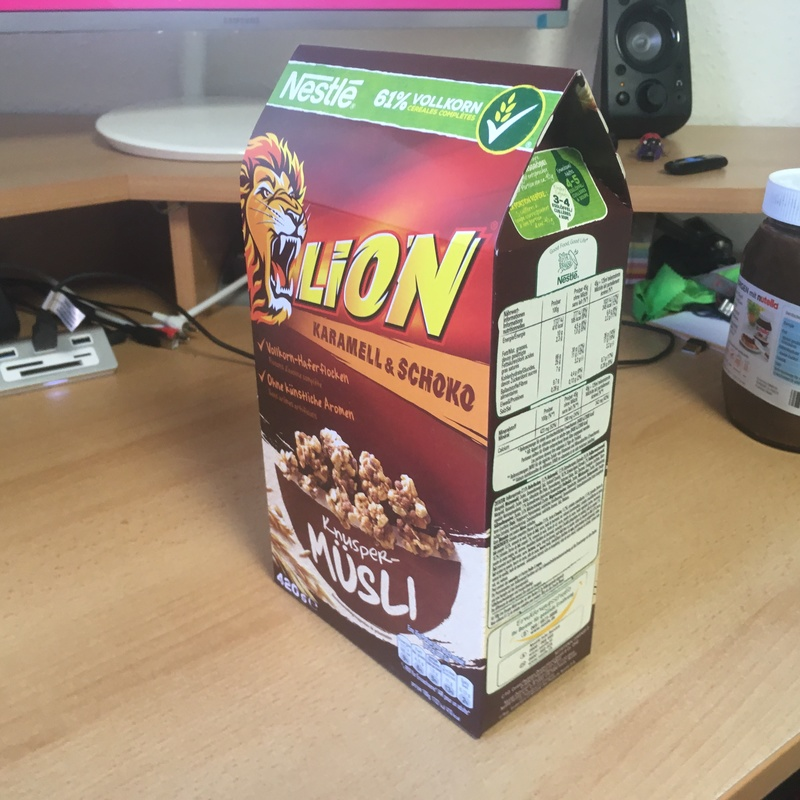cereals: (239, 44, 634, 741)
